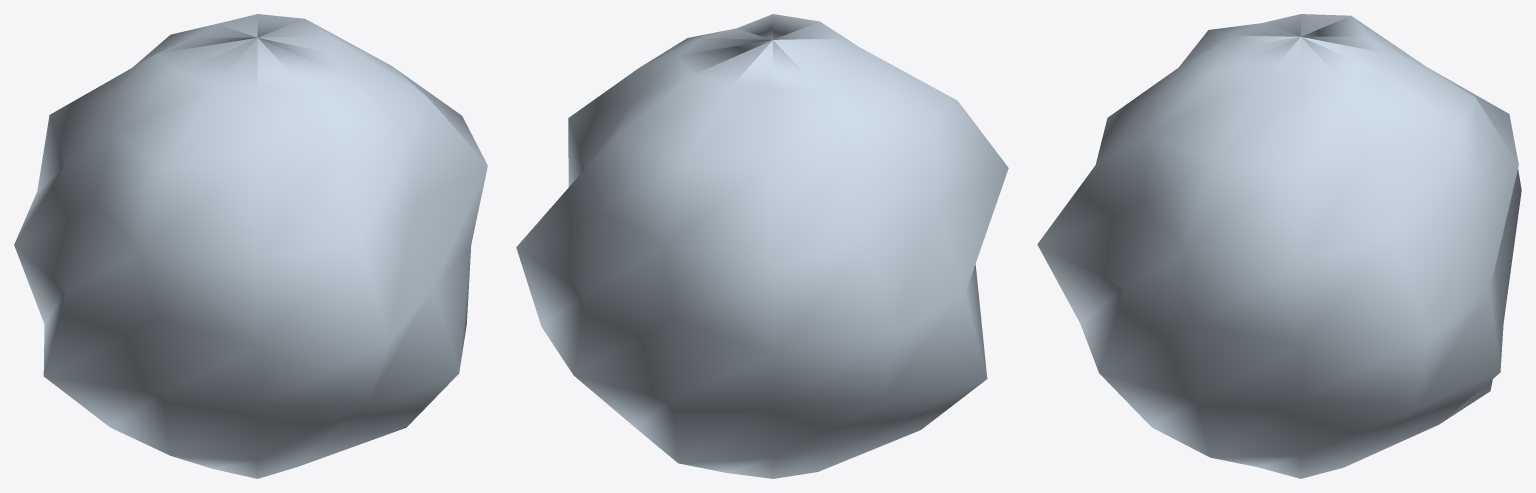
The model's file is 2028_DeathExplosion_ExplosionCloud.fbx.
3 views of the same model, side by side, from view 1: azimuth 30°, elevation 25°; view 2: azimuth 150°, elevation 25°; view 3: azimuth 270°, elevation 25° (orthographic).
Visible parts, largest first — view 1: PART_FireCloud; view 2: PART_FireCloud; view 3: PART_FireCloud.
Boxes of the visible parts, x1,y1,x2,y2 form: PART_FireCloud: (14,14,487,478); PART_FireCloud: (516,14,1008,478); PART_FireCloud: (1037,14,1521,478).
Bounding box in the file's own units: 211 × 200 × 212.
